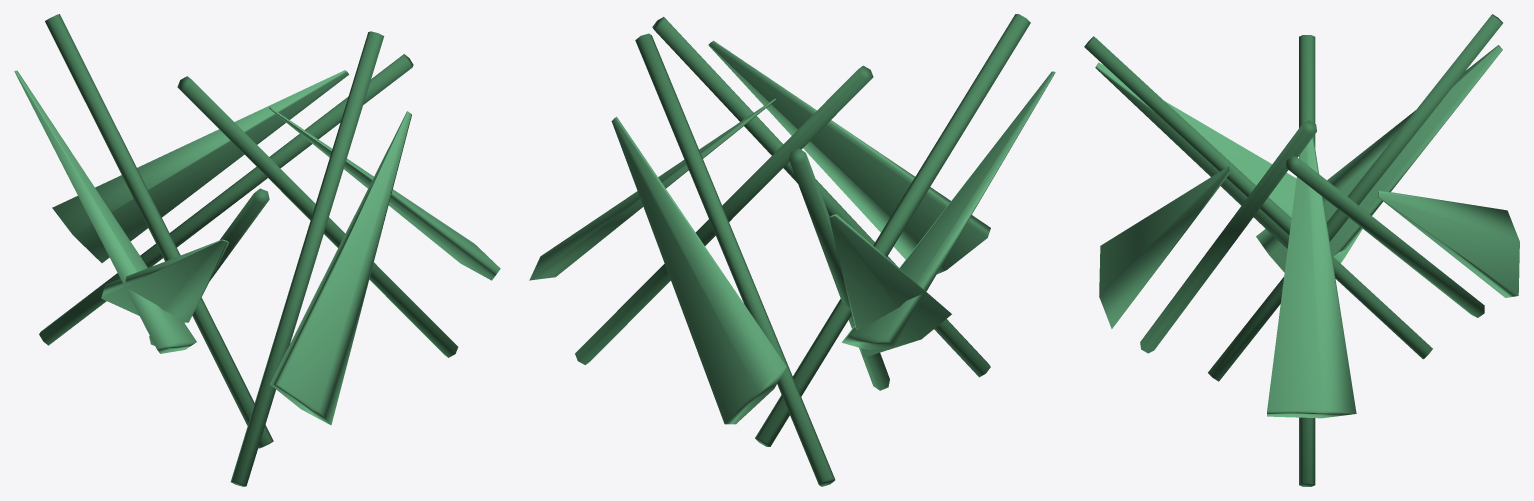
File: elven_fern_patch.glb
3 views of the same model, side by side, from view 1: azimuth 30°, elevation 25°; view 2: azimuth 150°, elevation 25°; view 3: azimuth 270°, elevation 25° (orthographic). The views are drawn at different scales.
Parts seen in each view (by area): view 1: Cone.004, Cone.001, Cylinder.004, Cylinder.002, Cone.002, Cylinder.001, Cylinder, Cone.003, Cone, Cylinder.003; view 2: Cone.001, Cone.004, Cylinder.001, Cylinder.003, Cone.003, Cone.002, Cylinder, Cylinder.004, Cone, Cylinder.002; view 3: Cone, Cone.001, Cone.004, Cone.002, Cylinder.003, Cylinder.002, Cone.003, Cylinder.004, Cylinder.001, Cylinder.
Boxes of the visible parts, x1,y1,x2,y2 form: Cone.004: (270,111,411,425); Cone.001: (52,70,348,262); Cylinder.004: (230,31,384,486); Cylinder.002: (45,14,273,448); Cone.002: (14,70,196,353); Cylinder.001: (39,54,413,345); Cylinder: (177,76,458,357); Cone.003: (101,239,229,322); Cone: (269,107,500,280); Cylinder.003: (149,188,269,345); Cone.001: (611,116,786,424); Cone.004: (708,40,990,274); Cylinder.001: (635,33,835,486); Cylinder.003: (755,14,1030,446); Cone.003: (841,71,1055,349); Cone.002: (829,214,951,357); Cylinder: (575,65,873,364); Cylinder.004: (652,17,990,377); Cone: (529,98,776,280); Cylinder.002: (789,148,889,390); Cone: (1267,137,1356,418); Cone.001: (1378,190,1519,297); Cone.004: (1099,165,1231,328); Cone.002: (1256,45,1502,272); Cylinder.003: (1084,36,1432,359); Cylinder.002: (1208,14,1502,381); Cone.003: (1095,62,1362,263); Cylinder.004: (1140,120,1316,353); Cylinder.001: (1286,155,1484,317); Cylinder: (1299,35,1315,486).
Bounding box in the file's own units: 0.4007 × 0.3587 × 0.4227.
